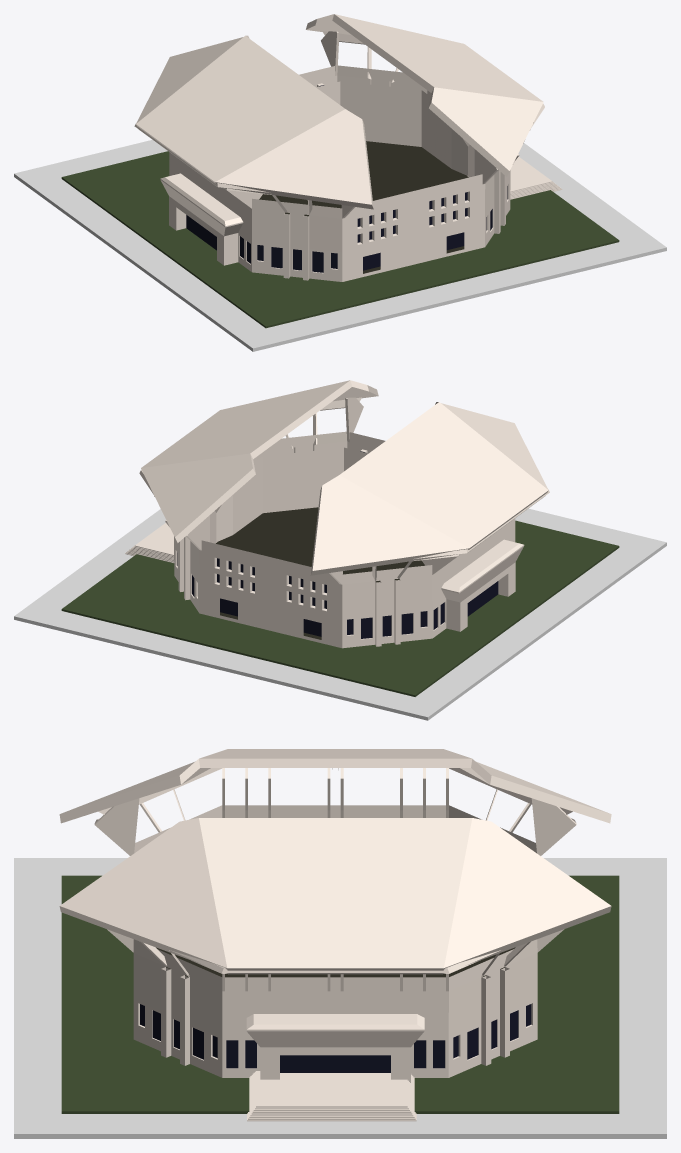
The model's file is 1.VollyballCourt.fbx.
The picture shows the model from 3 angles, top to bottom: view 1: azimuth 30°, elevation 25°; view 2: azimuth 150°, elevation 25°; view 3: azimuth 270°, elevation 25°; orthographic projection. The views are drawn at different scales.
Visible parts, largest first — view 1: Roof.002, Main, Base.001, Base, Floor, Windows.001, Stairs; view 2: Roof.002, Main, Base.001, Base, Floor, Windows.001, Stairs; view 3: Roof.002, Main, Base.001, Base, Stairs, Windows.001, Floor.
Boxes of the visible parts, left/top/right/bottom form: Roof.002: left=136, top=14, right=543, bottom=209; Main: left=134, top=31, right=544, bottom=281; Base.001: left=61, top=151, right=619, bottom=328; Base: left=14, top=140, right=666, bottom=351; Floor: left=259, top=141, right=468, bottom=273; Windows.001: left=186, top=85, right=507, bottom=272; Stairs: left=467, top=156, right=562, bottom=199; Roof.002: left=141, top=380, right=548, bottom=575; Main: left=139, top=397, right=549, bottom=648; Base.001: left=61, top=520, right=619, bottom=696; Base: left=14, top=508, right=666, bottom=720; Floor: left=216, top=507, right=424, bottom=639; Windows.001: left=177, top=451, right=498, bottom=638; Stairs: left=125, top=523, right=216, bottom=563; Roof.002: left=59, top=749, right=611, bottom=974; Main: left=94, top=768, right=576, bottom=1082; Base.001: left=61, top=875, right=619, bottom=1113; Base: left=14, top=858, right=666, bottom=1138; Stairs: left=247, top=1071, right=416, bottom=1121; Windows.001: left=140, top=1004, right=531, bottom=1072; Floor: left=156, top=947, right=515, bottom=977.
Bounding box in the file's own units: 6792 × 2421 × 6792.
